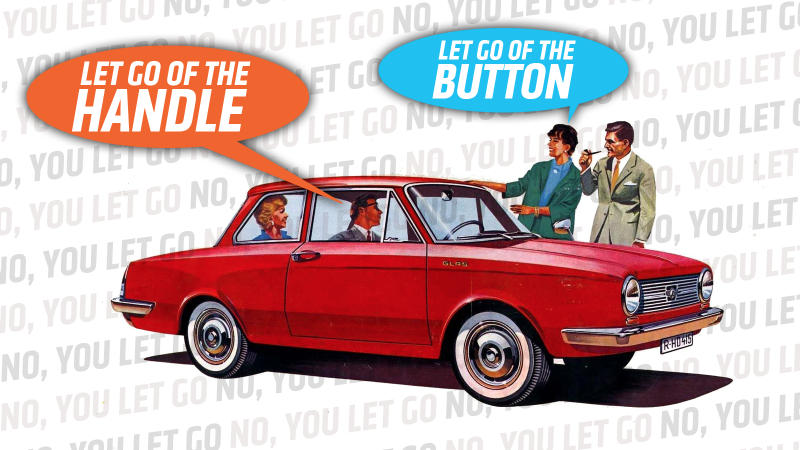car: (107, 164, 761, 412)
